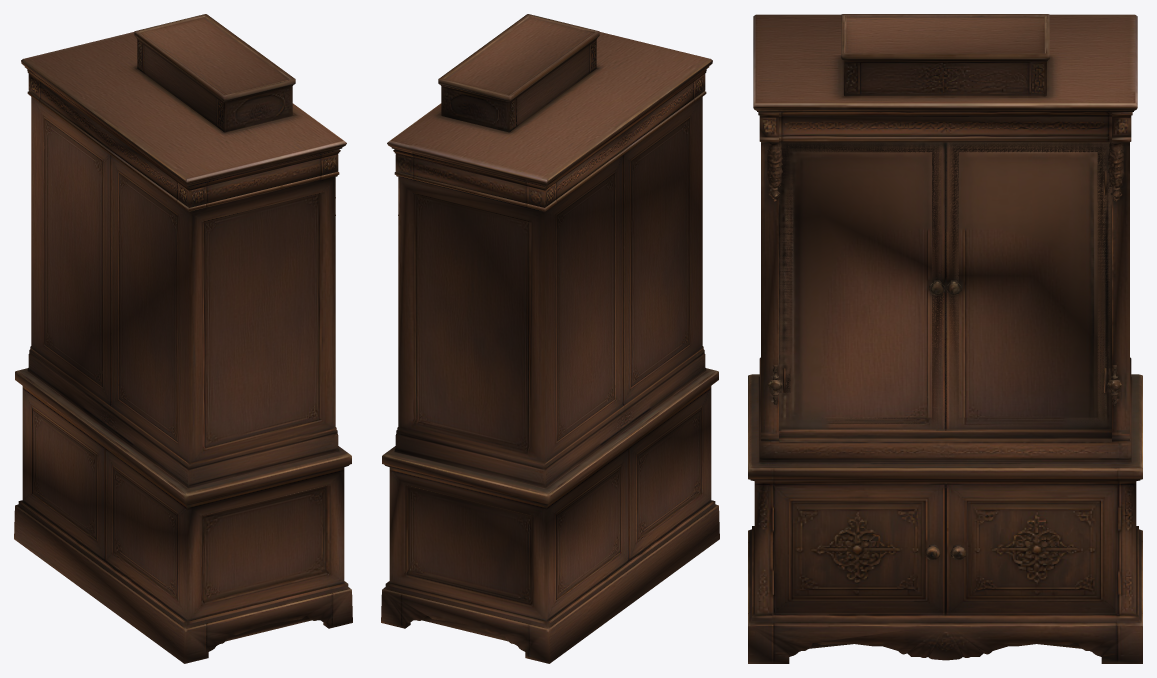
3 renders of one model, left to right at view 1: azimuth 30°, elevation 25°; view 2: azimuth 150°, elevation 25°; view 3: azimuth 270°, elevation 25°, orthographic. The views are drawn at different scales.
Visible parts, largest first — view 1: tripo_node_f59c8d43-edd4-4863-91eb-4e3af13b2d05; view 2: tripo_node_f59c8d43-edd4-4863-91eb-4e3af13b2d05; view 3: tripo_node_f59c8d43-edd4-4863-91eb-4e3af13b2d05.
Boxes of the visible parts, left/top/right/bottom form: tripo_node_f59c8d43-edd4-4863-91eb-4e3af13b2d05: left=14, top=14, right=352, bottom=663; tripo_node_f59c8d43-edd4-4863-91eb-4e3af13b2d05: left=381, top=14, right=719, bottom=663; tripo_node_f59c8d43-edd4-4863-91eb-4e3af13b2d05: left=748, top=14, right=1142, bottom=663.
Bounding box in the file's own units: 0.3535 × 0.998 × 0.5957.
Materials: 1 (1 with a texture image).
